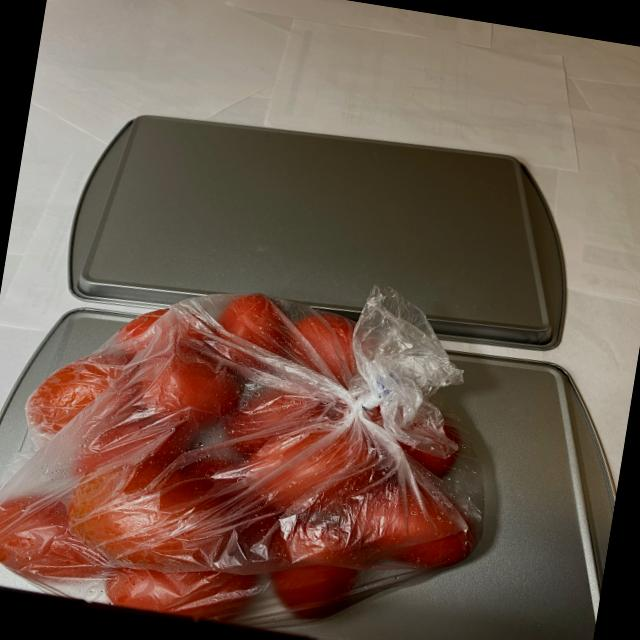tomato: (0, 261, 497, 640)
